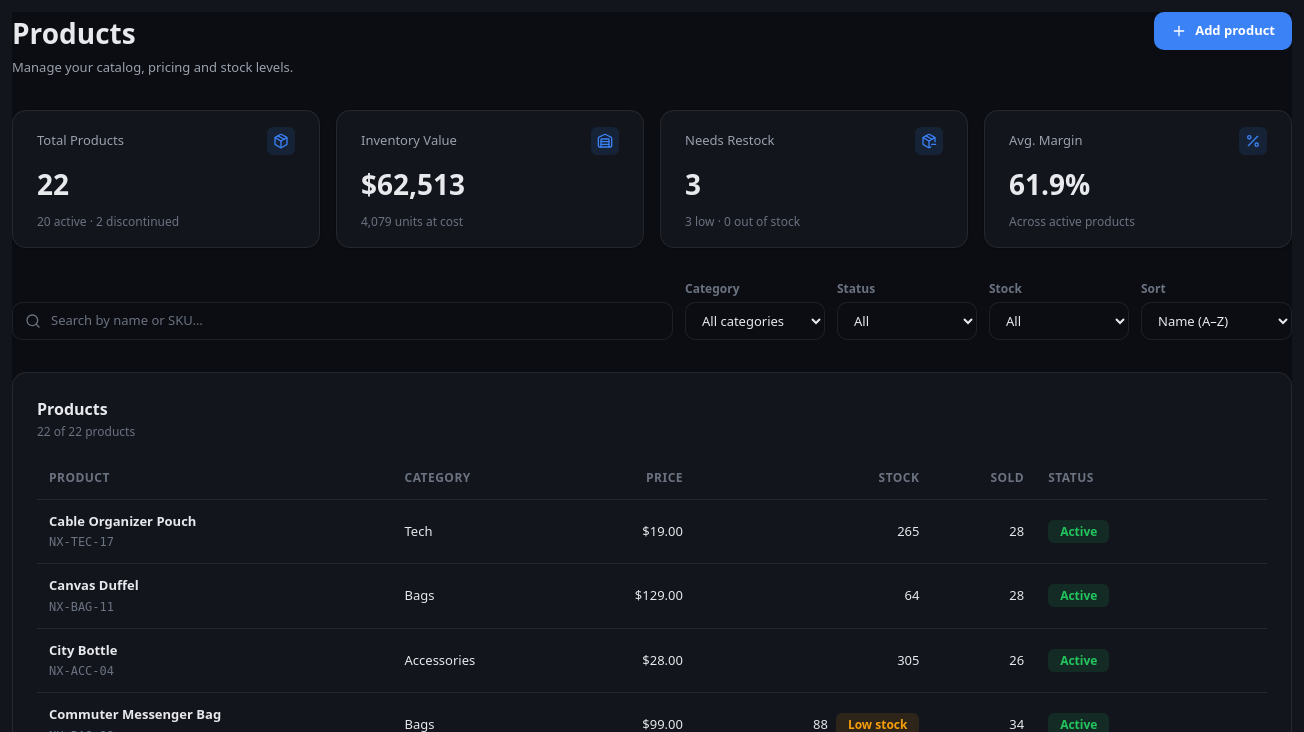
Test: Products page: search, filters and sorting › shows Clear filters only when needed, and resets every control
expect the button "Clear filters" is not shown: met
Step 1. Type "bag" into the search field named "search products" → (354, 321), box [49,310,660,331]
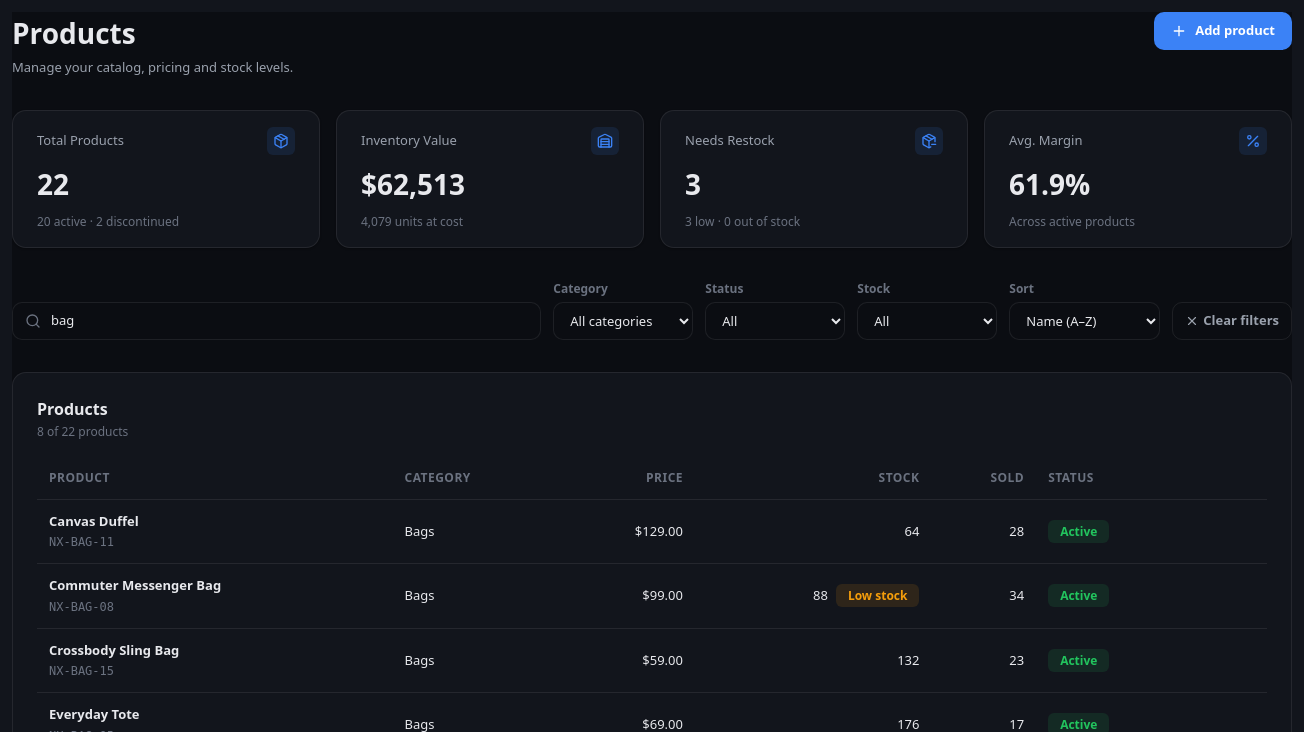
Step 2. Select "Bags" in the dropdown labelled "Category" → (623, 320), box [553,302,693,340]
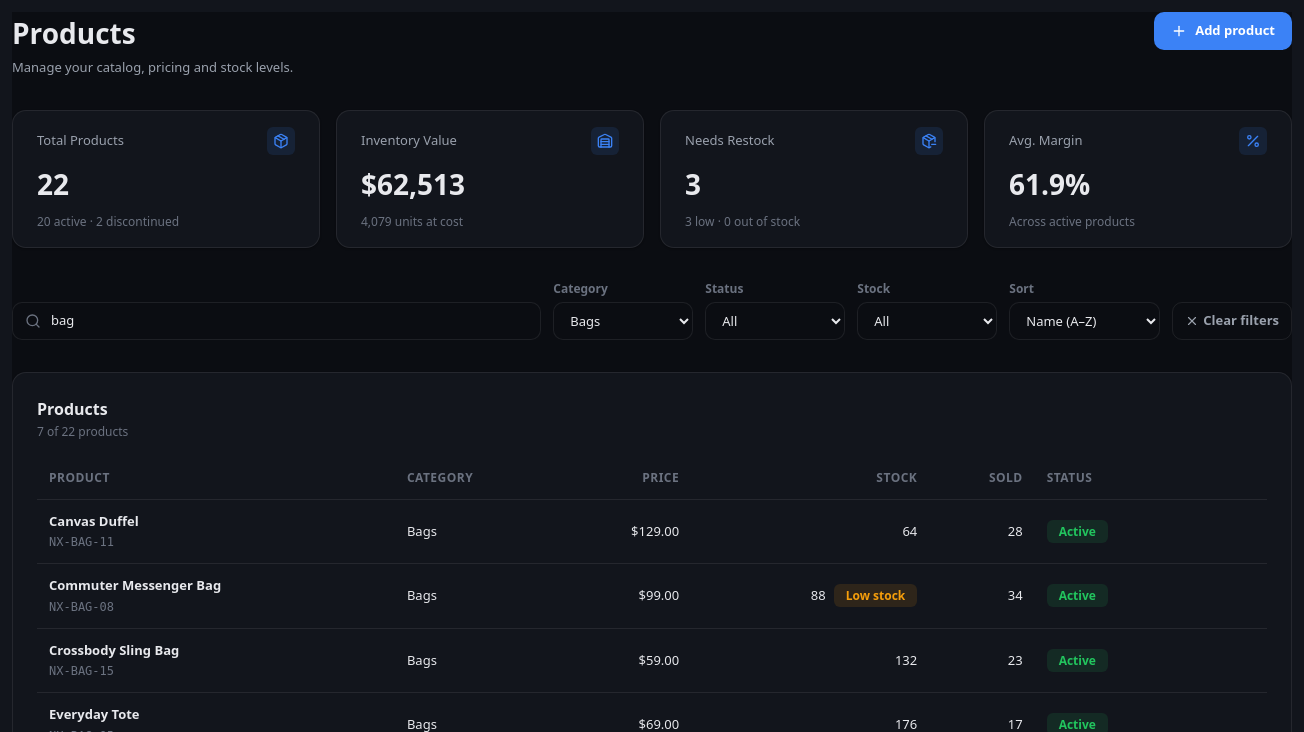
Step 3. Select "Active" in the dropdown labelled "Status" → (775, 320), box [705,302,845,340]
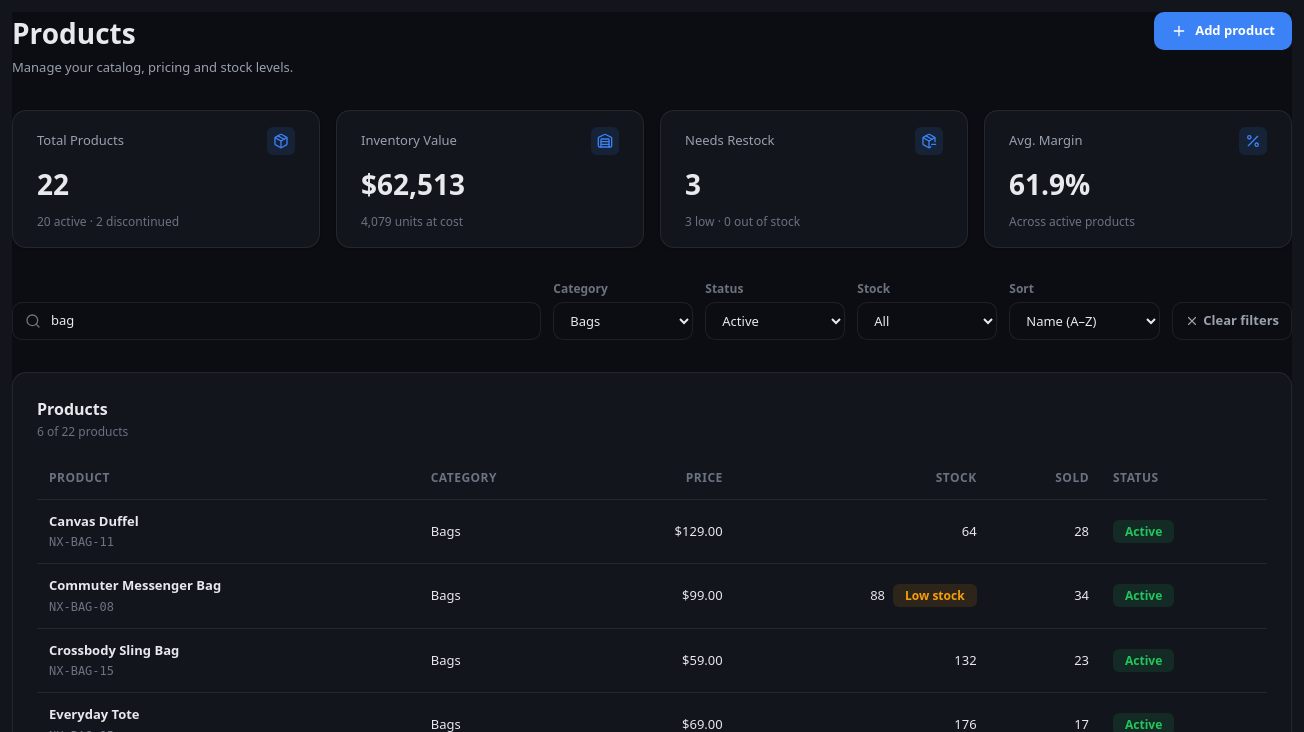
Step 4. Select "In stock" in the dropdown labelled "Stock" → (927, 320), box [857,302,997,340]
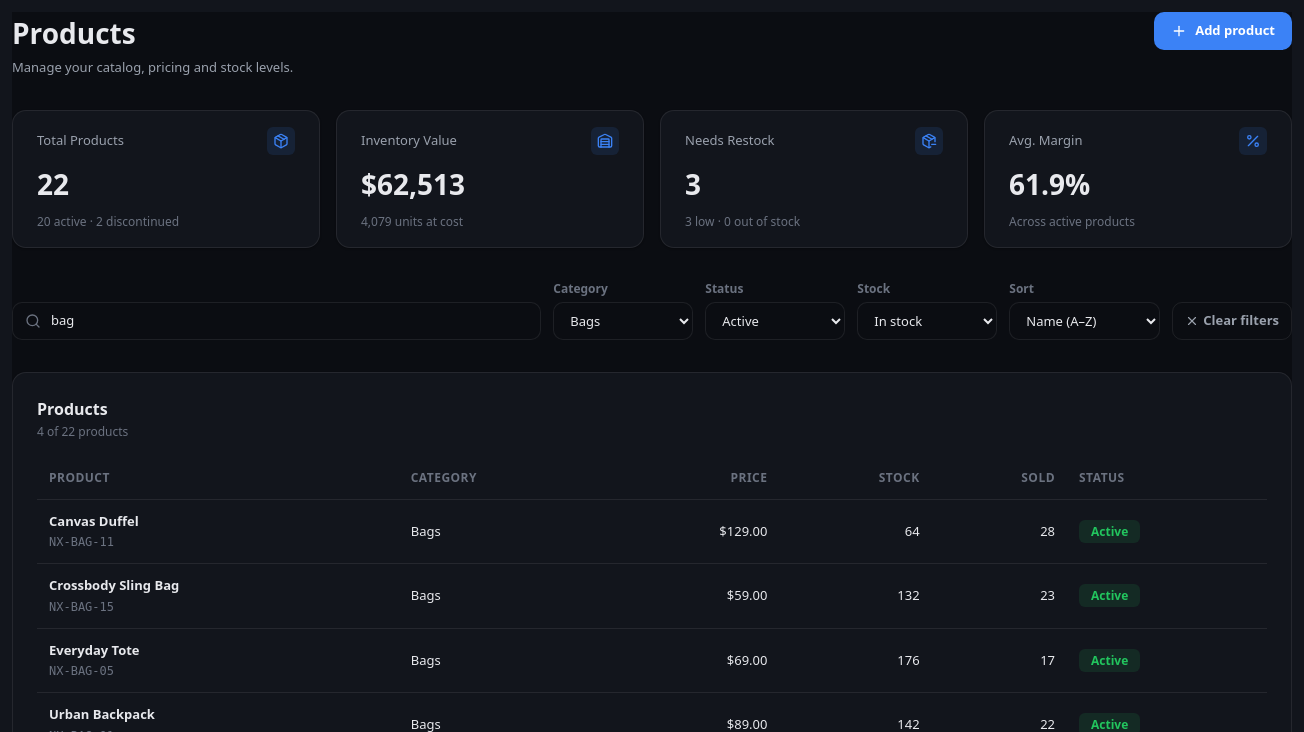
Step 5. Select "Best selling" in the dropdown labelled "Sort" → (1085, 320), box [1009,302,1160,340]
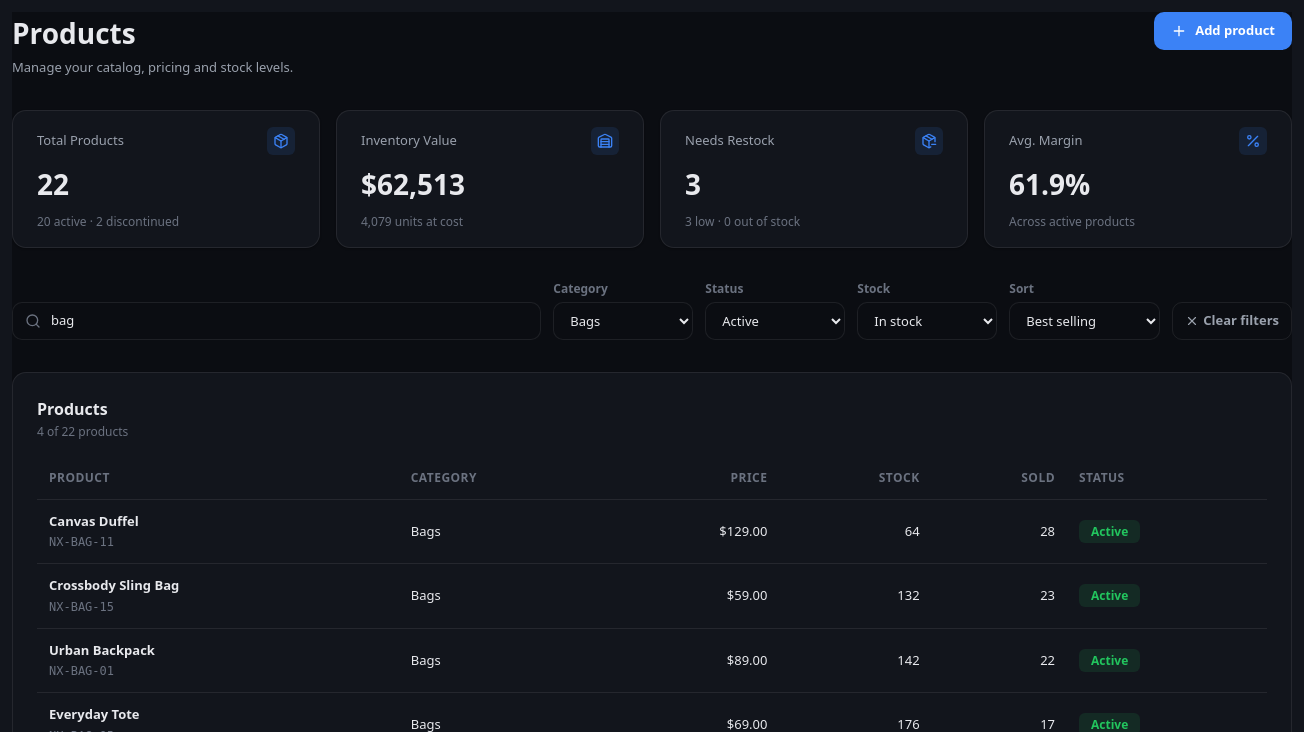
Step 6. Click the button "Clear filters" → (1232, 320), box [1172,302,1292,340]
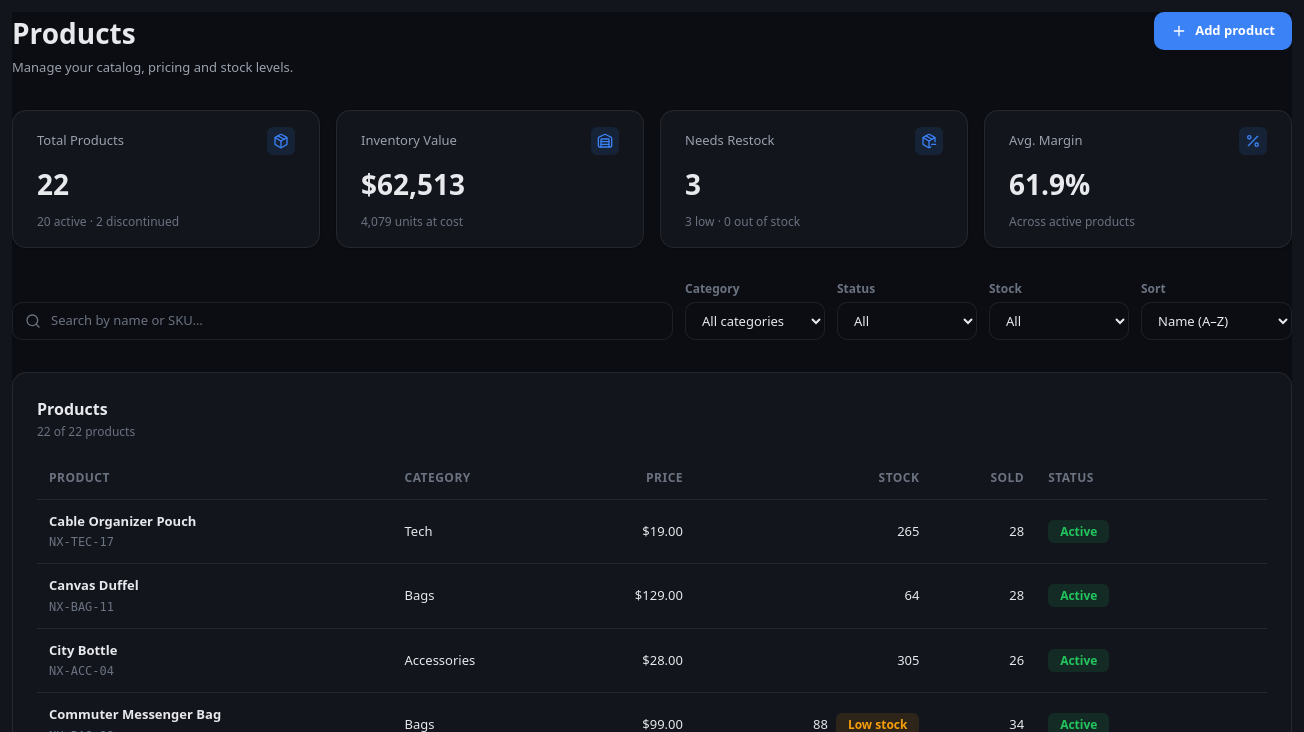
expect the search field named "search products" is empty: met, box [49,310,660,331]
expect the number of buttons named "View product " is 10: met
